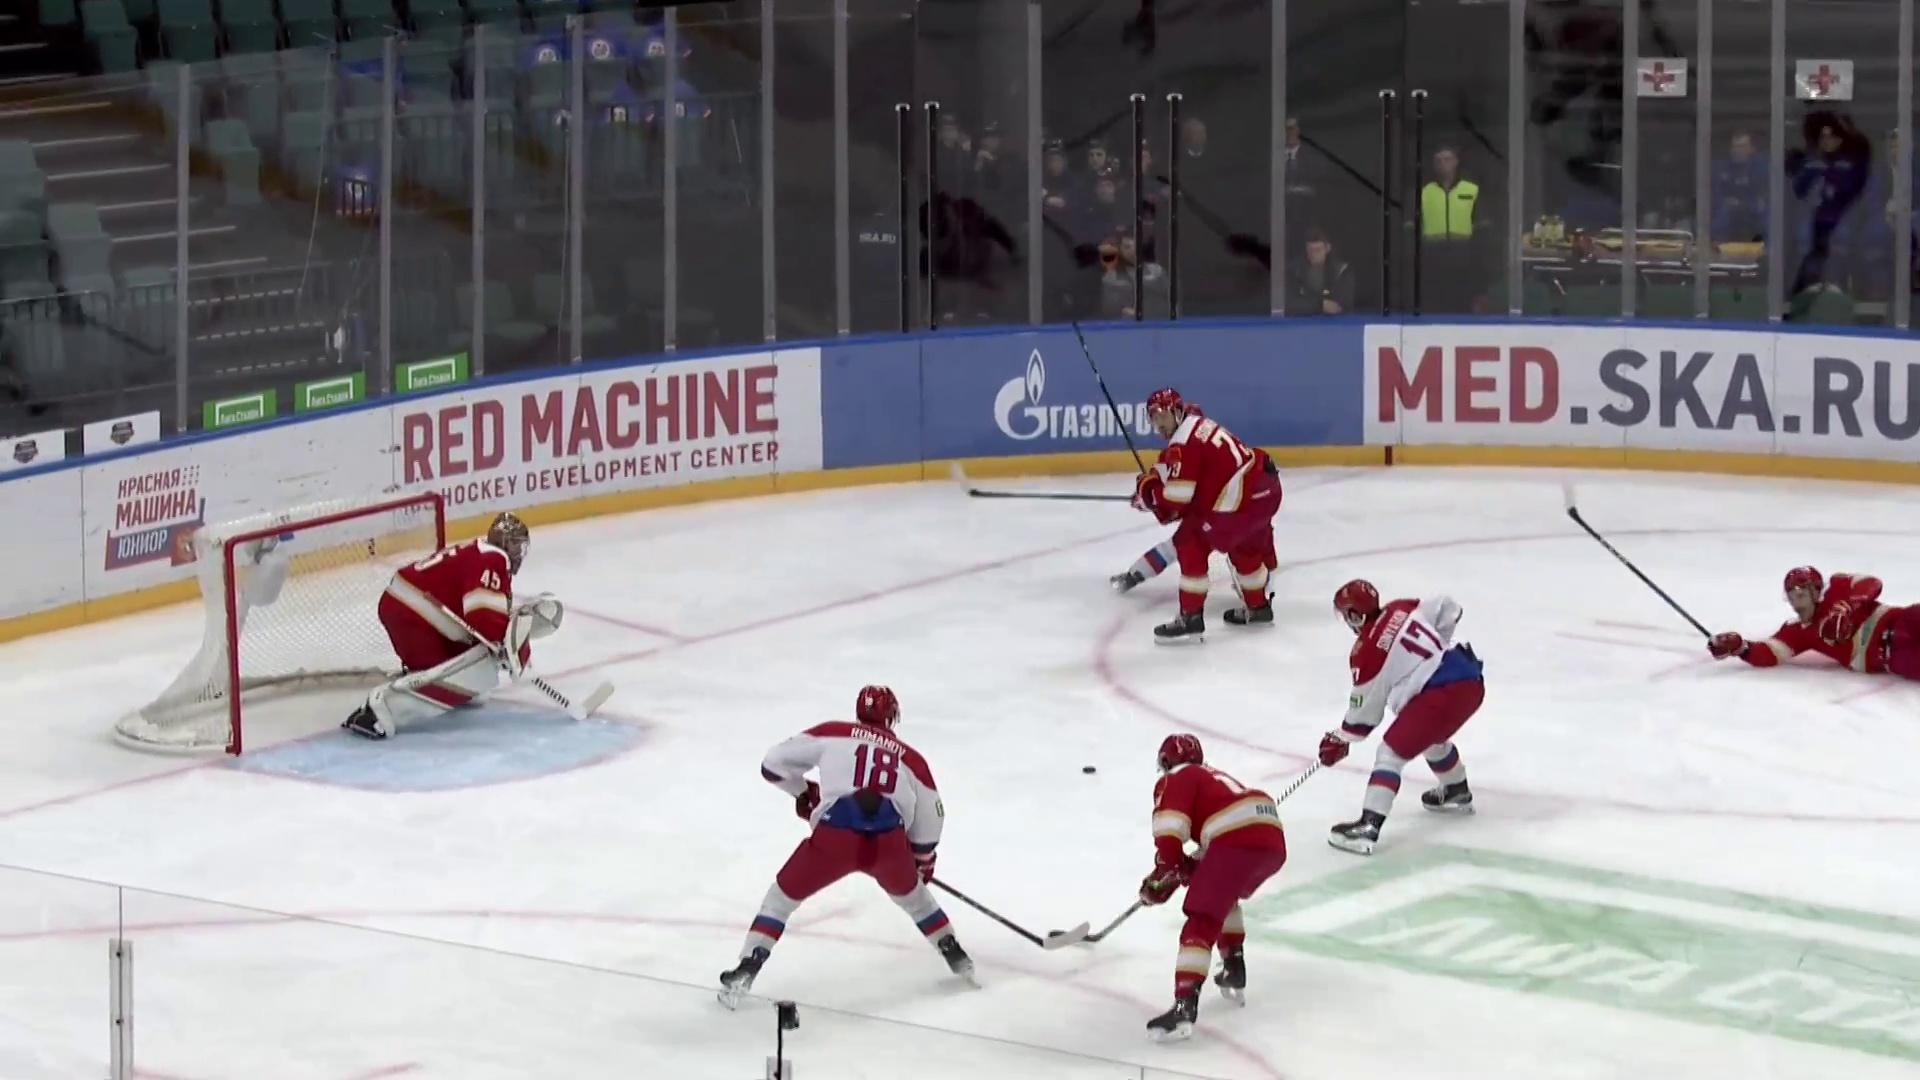ball: (1081, 765, 1097, 777)
